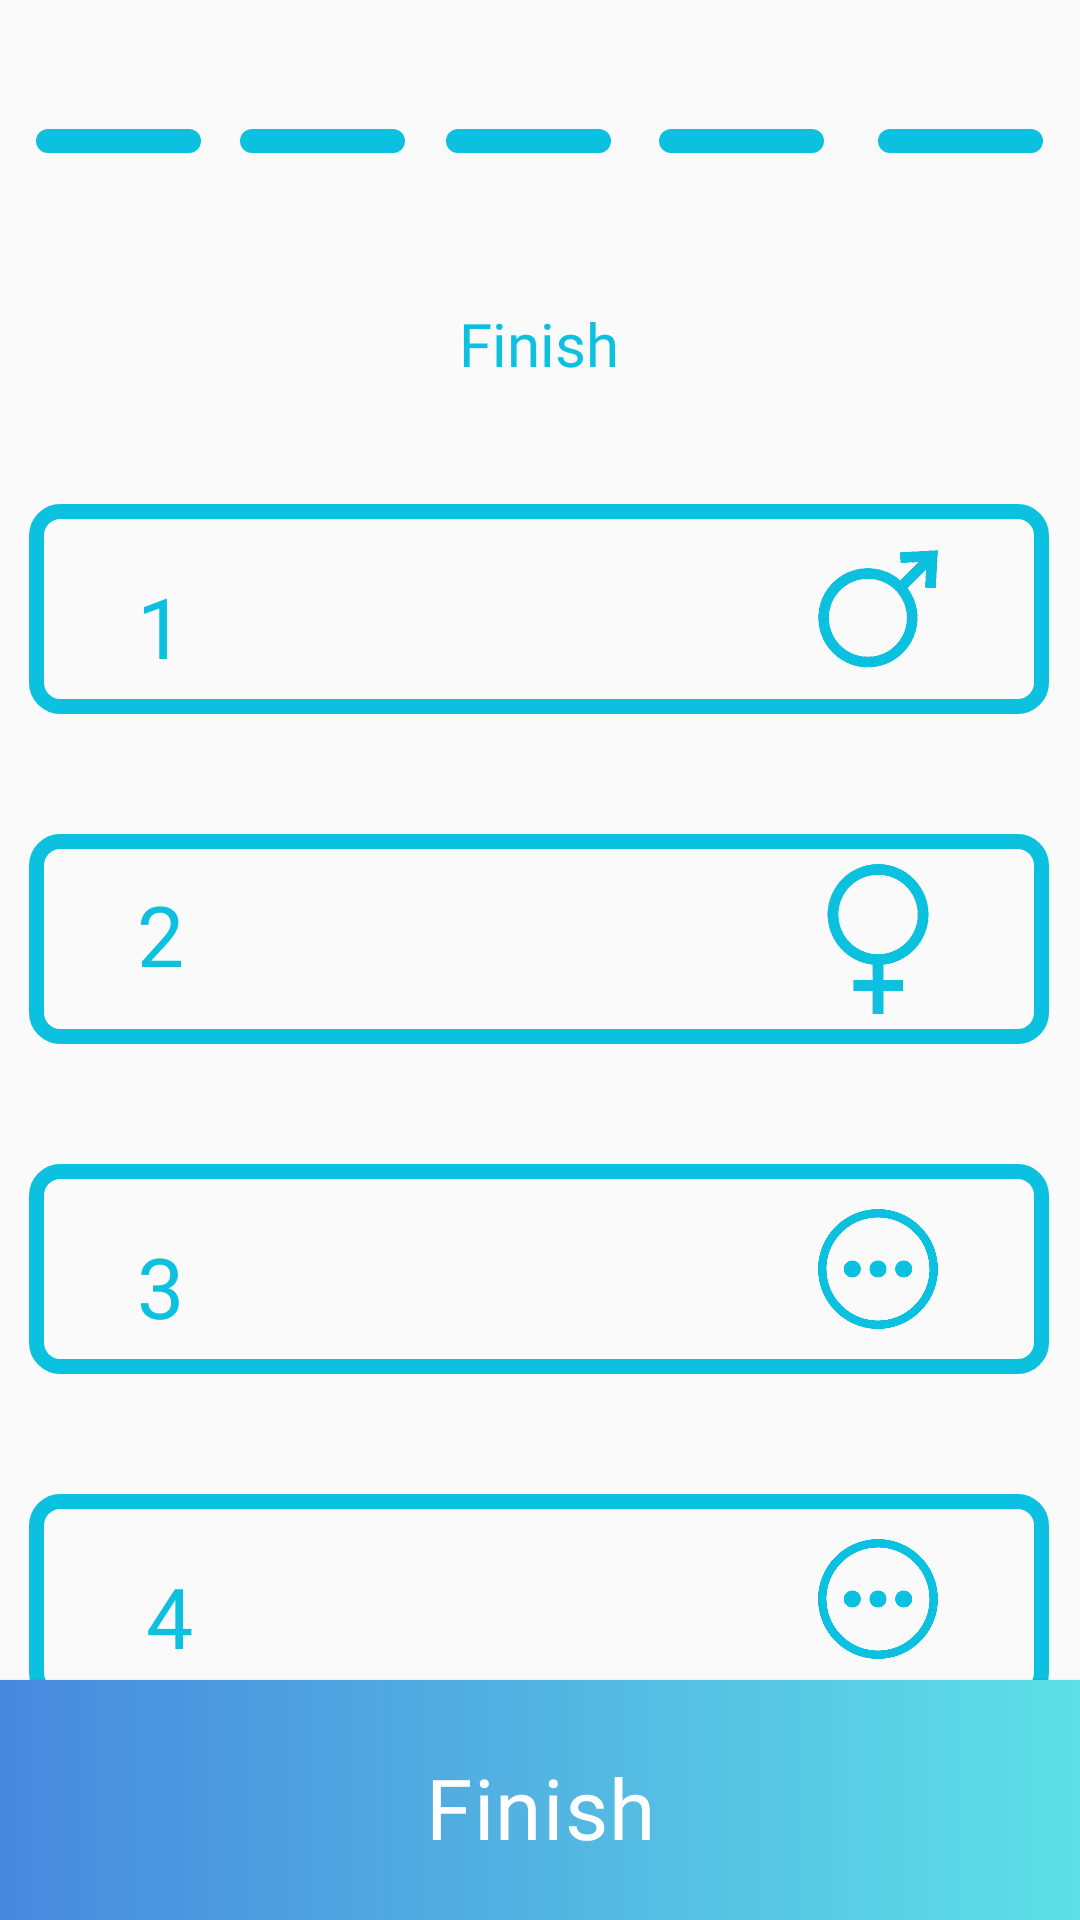

Screen size 1080px×1920px. Icon name, then its box in pixels as detection(x1, y1, x2, y2):
female: detection(827, 864, 929, 1014)
male: detection(818, 550, 938, 668)
other: detection(818, 1209, 938, 1329), detection(818, 1539, 938, 1659)
